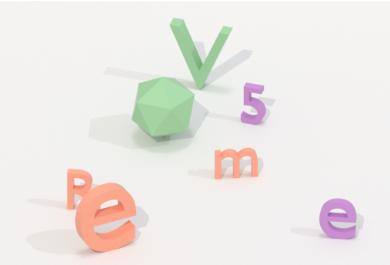0-TronCanh: (128, 74, 197, 144)
5: (240, 80, 267, 127)
R: (63, 164, 95, 212)
V: (169, 15, 237, 91)
e: (73, 181, 140, 255), (315, 194, 363, 242)
m: (211, 145, 262, 182)
